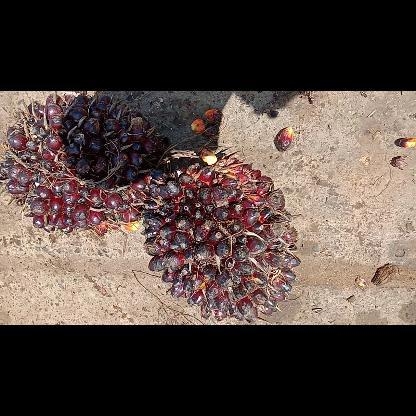Kurang masak: (142, 150, 304, 324), (0, 94, 175, 238)
